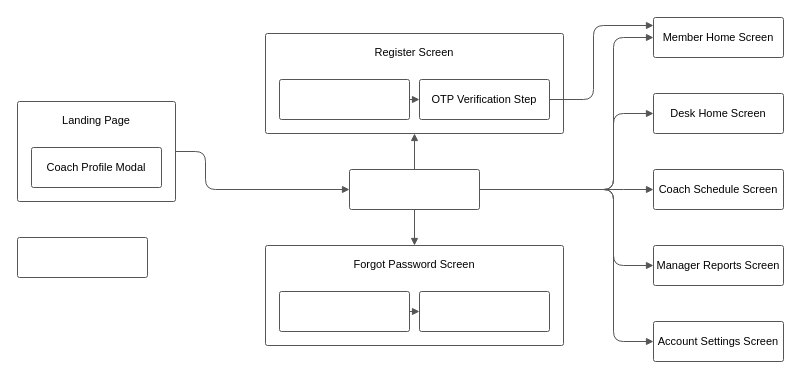
Image size: 801x379. Some labels were removed from this diagram. Each missing label, with the centre of its shape:
"Code + New Password Step" belongs at point 484,311.
"Login Screen" belongs at point 414,189.
"Registration Form" belongs at point 344,99.
"Request Code Step" belongs at point 344,311.
"Verify Certificate Screen" belongs at point 82,257.
